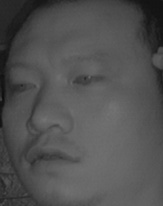eye: (70, 68, 104, 89), (9, 75, 37, 94)
mouth: (22, 139, 80, 175)
